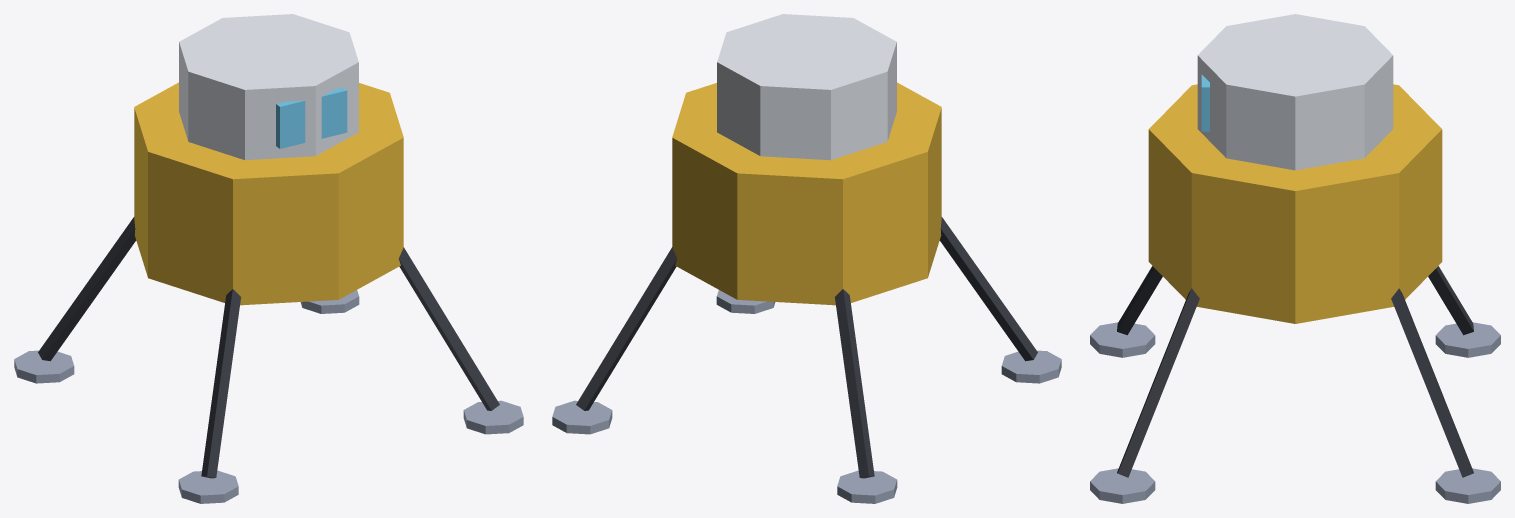
Rendered from lowpoly-lander_pod.glb.
The picture shows the model from 3 angles, left to right: view 1: azimuth 30°, elevation 25°; view 2: azimuth 150°, elevation 25°; view 3: azimuth 270°, elevation 25°; orthographic projection. The views are drawn at different scales.
Visible parts, largest first — view 1: lander_pod; view 2: lander_pod; view 3: lander_pod.
Part boxes in pixels (box(x1,y1,x2,y2)): lander_pod: box(14, 14, 523, 503); lander_pod: box(552, 14, 1061, 503); lander_pod: box(1090, 14, 1500, 503).
Size of the model in its own units: 2.52 by 2.45 by 2.52.
